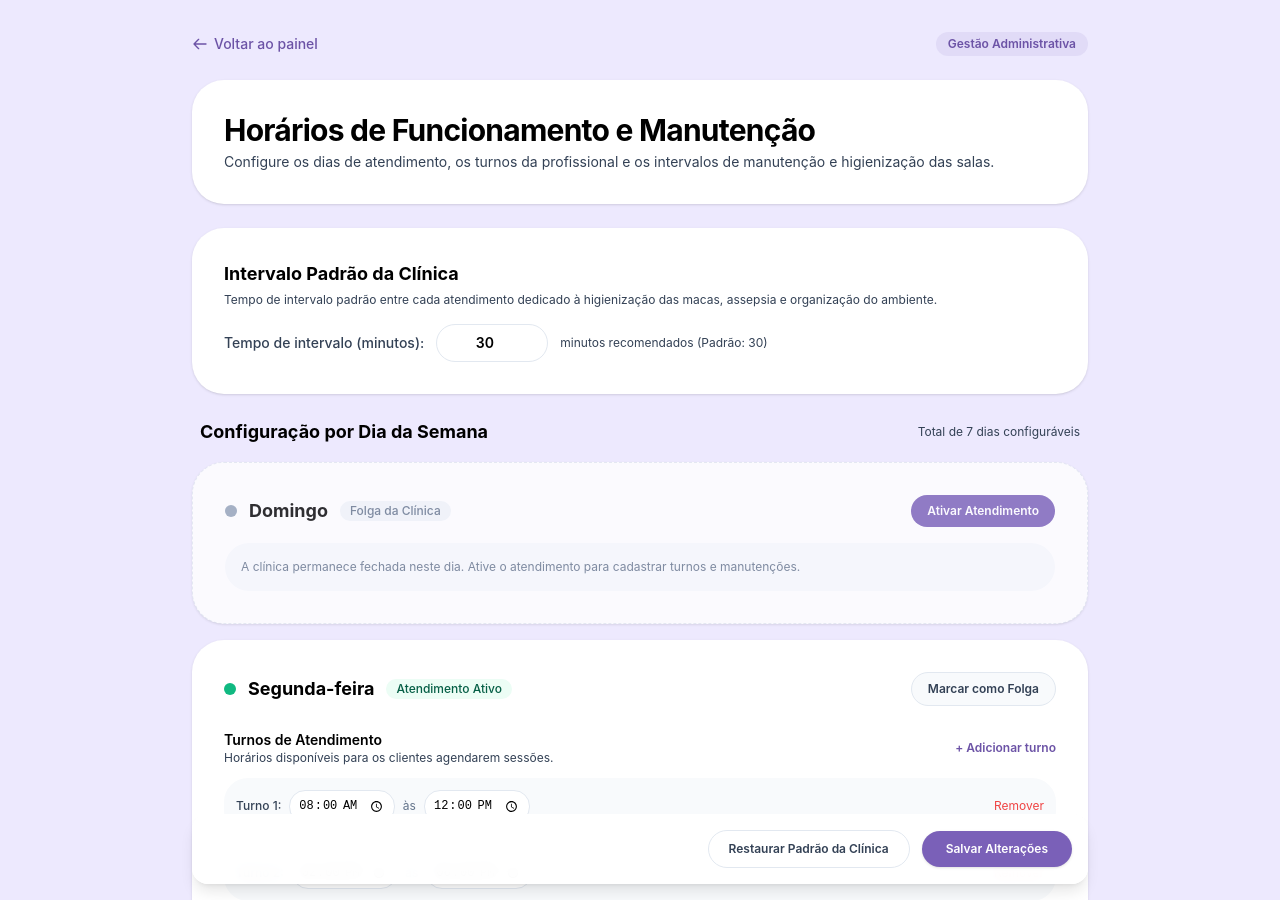
Test case: AdminHorariosPage › permite salvar alterações com sucesso
Expected: the heading "Horários de Funcionamento e Manutenção" is shown, [224,112,815,148]
Click the button "Salvar Alterações": [997, 849] box [922,831,1072,867]
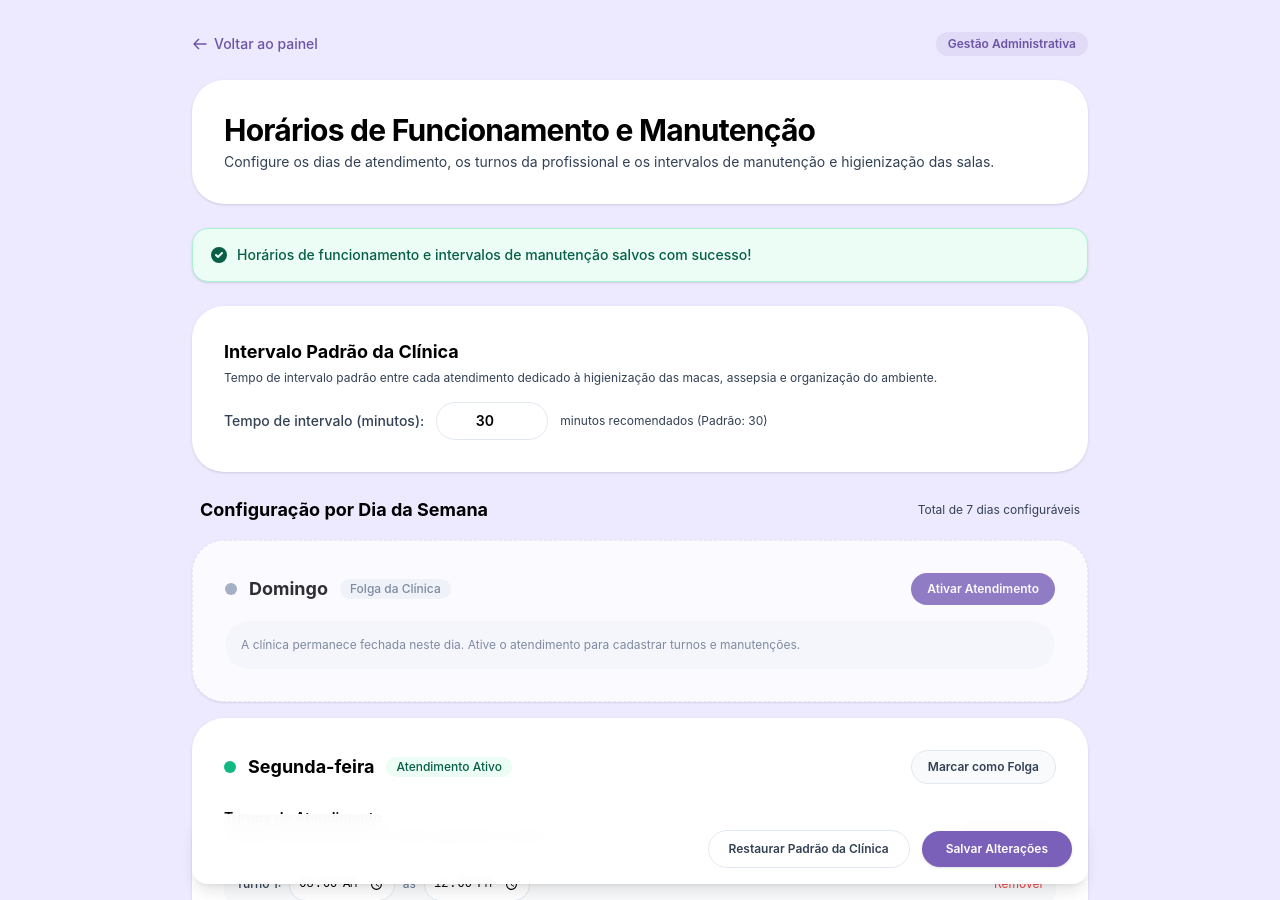
Result: the text "Horários de funcionamento e intervalos de manutenção salvos com sucesso" is shown at [237,246,752,263]
